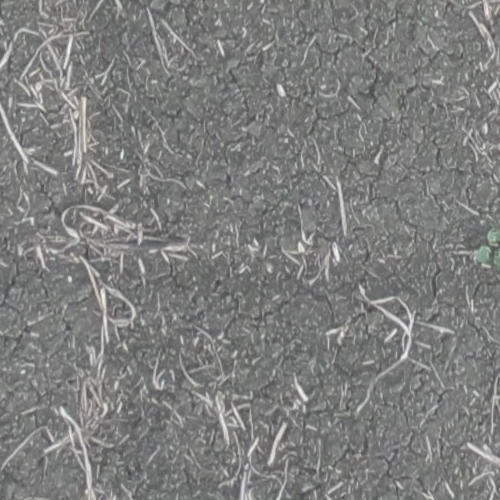isolated: (476, 230, 499, 264)
